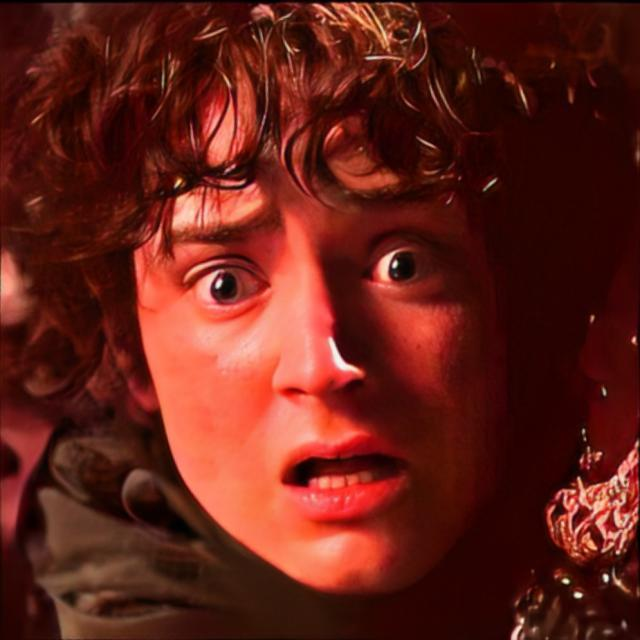fear: (132, 41, 512, 596)
